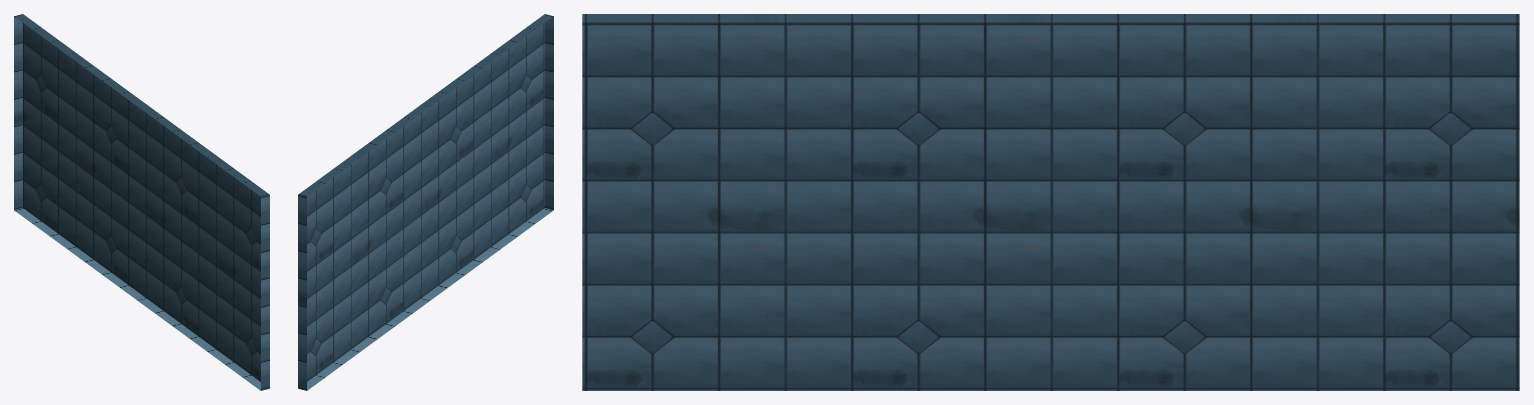
Rendered from RoomWall.glb.
3 views of the same model, side by side, from view 1: azimuth 30°, elevation 25°; view 2: azimuth 150°, elevation 25°; view 3: azimuth 270°, elevation 25° (orthographic). The views are drawn at different scales.
Visible parts, largest first — view 1: Cube; view 2: Cube; view 3: Cube.
Part boxes in pixels (x1,y1,x2,y2): Cube: (14,14,269,390); Cube: (298,14,553,390); Cube: (582,14,1519,390).
Bounding box in the file's own units: 0.1 × 2.07 × 4.76.
1 material, 1 textured.
